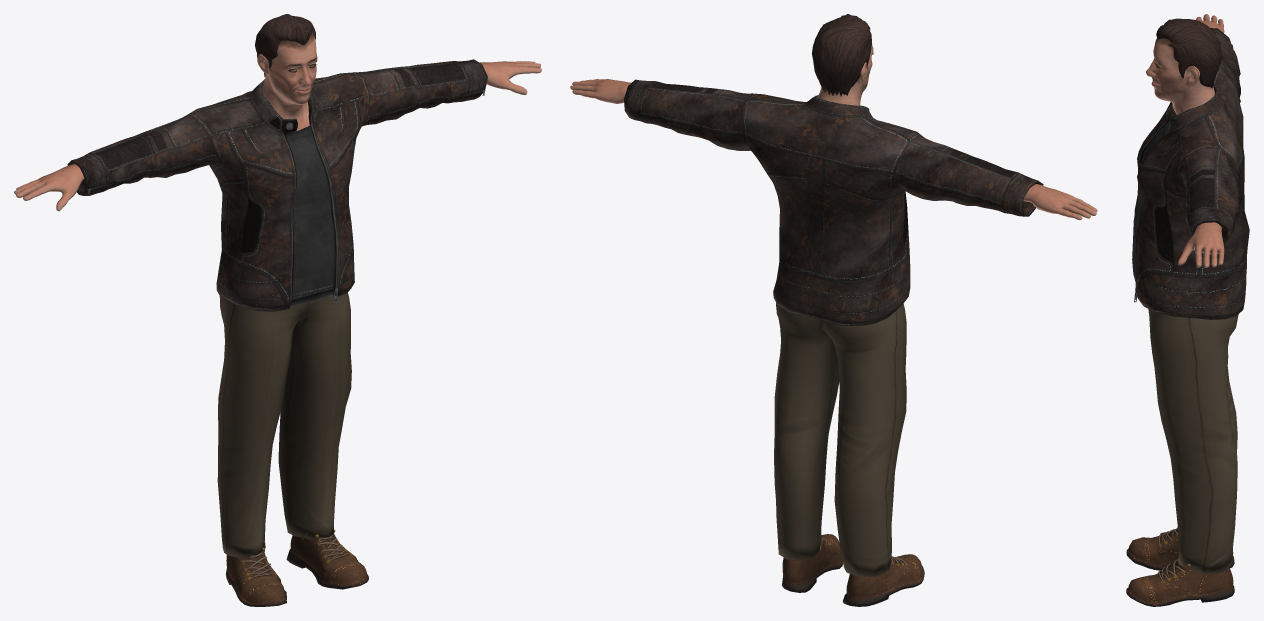
Rendered from Luca 1.obj.
The picture shows the model from 3 angles, left to right: view 1: azimuth 30°, elevation 25°; view 2: azimuth 150°, elevation 25°; view 3: azimuth 270°, elevation 25°; orthographic projection.
Visible parts, largest first — view 1: Tops, Bottoms, Body, Shoes, Hair; view 2: Tops, Bottoms, Shoes, Hair, Body; view 3: Tops, Bottoms, Shoes, Body, Hair.
Boxes of the visible parts, bbox=[...] form: Tops: bbox=[67, 59, 487, 311]; Bottoms: bbox=[217, 292, 351, 559]; Body: bbox=[14, 33, 541, 211]; Shoes: bbox=[225, 529, 368, 606]; Hair: bbox=[255, 14, 315, 76]; Tops: bbox=[624, 79, 1043, 325]; Bottoms: bbox=[774, 303, 906, 577]; Shoes: bbox=[782, 534, 924, 606]; Hair: bbox=[812, 14, 871, 96]; Body: bbox=[570, 44, 1097, 220]; Tops: bbox=[1132, 28, 1249, 319]; Bottoms: bbox=[1148, 309, 1238, 574]; Shoes: bbox=[1126, 527, 1234, 606]; Body: bbox=[1146, 14, 1224, 267]; Hair: bbox=[1156, 18, 1221, 88].
Bounding box in the file's own units: 200 × 204 × 41.03.
Materials: 5 (5 with a texture image).
